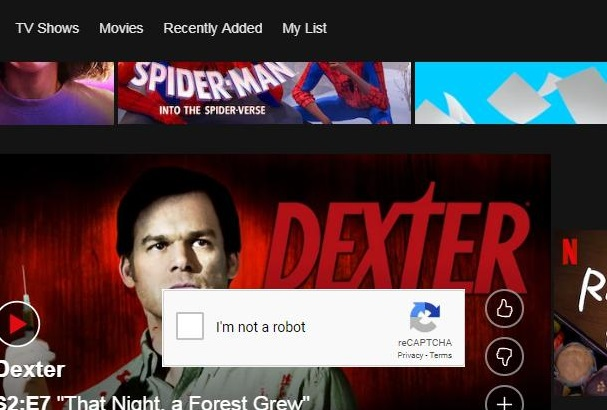captcha: (177, 313, 310, 340)
